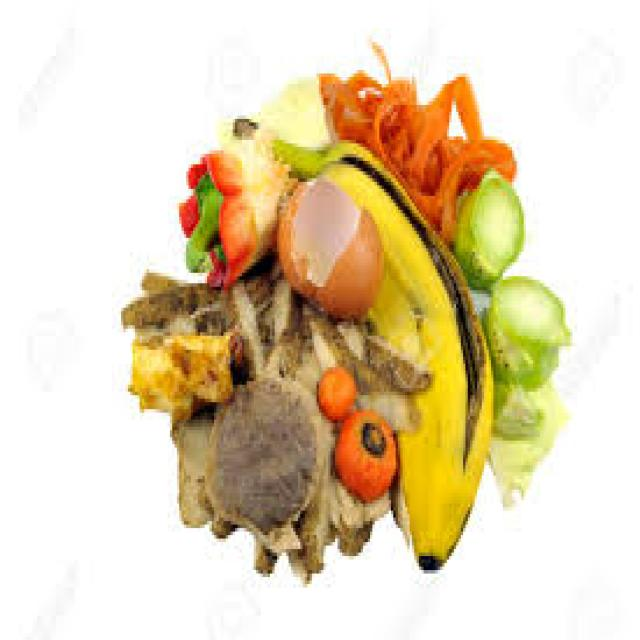Wet: (186, 360, 332, 568), (456, 185, 586, 410), (115, 300, 245, 440), (150, 131, 278, 270), (280, 175, 386, 316), (313, 358, 397, 516)
